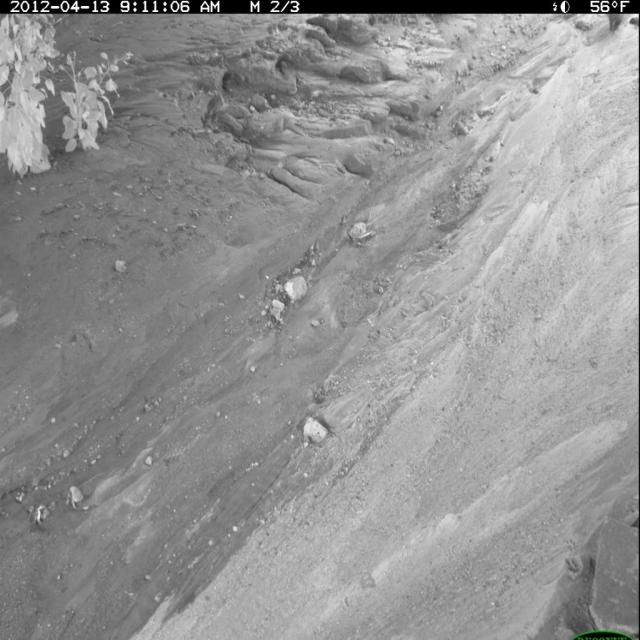opossum: (605, 13, 628, 37)
